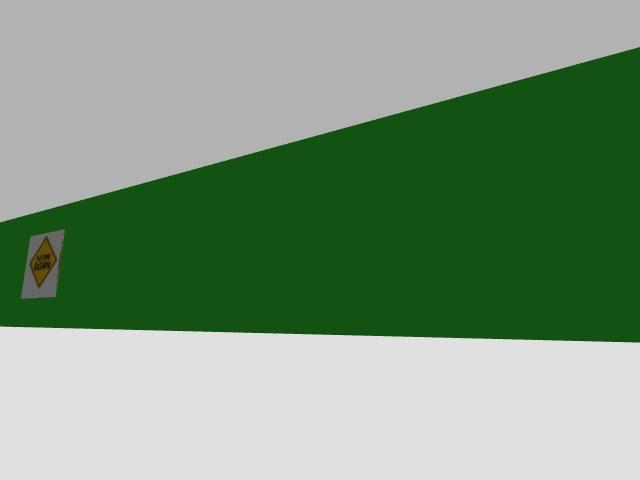slowsign: (21, 230, 63, 298)
